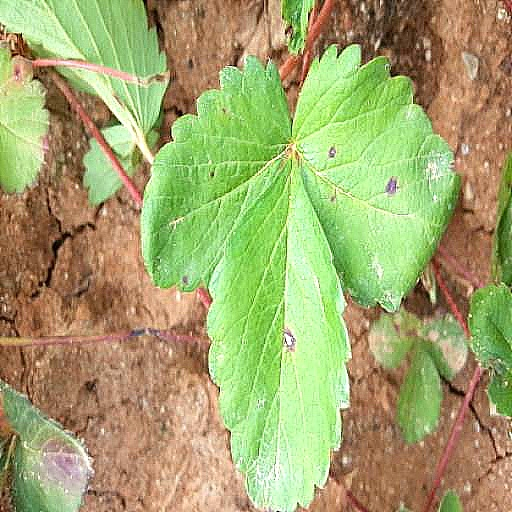Leaf Spot: (205, 147, 352, 511), (290, 43, 464, 314), (141, 55, 292, 294), (0, 38, 53, 197), (368, 304, 422, 373)
